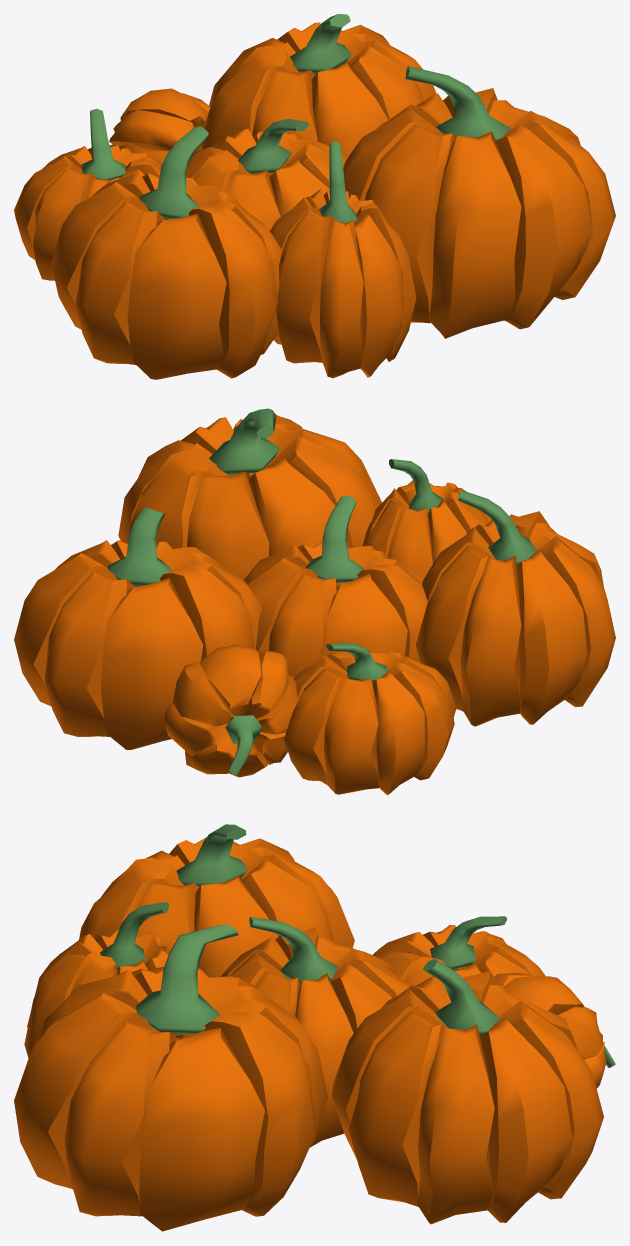
File: pum2.fbx
The picture shows the model from 3 angles, top to bottom: view 1: azimuth 30°, elevation 25°; view 2: azimuth 150°, elevation 25°; view 3: azimuth 270°, elevation 25°; orthographic projection. The views are drawn at different scales.
Parts seen in each view (by area): view 1: num07_Pumpkin, num06_Pumpkin, num02_Pumpkin, num05_Pumpkin, num01_Pumpkin, num03_Pumpkin, num04_Pumpkin; view 2: num05_Pumpkin, num06_Pumpkin, num07_Pumpkin, num03_Pumpkin, num01_Pumpkin, num04_Pumpkin, num02_Pumpkin; view 3: num07_Pumpkin, num05_Pumpkin, num06_Pumpkin, num01_Pumpkin, num02_Pumpkin, num03_Pumpkin, num04_Pumpkin.
Boxes of the visible parts, <box> form: num07_Pumpkin: <box>343,66,615,338</box>; num06_Pumpkin: <box>51,126,282,379</box>; num02_Pumpkin: <box>270,141,416,378</box>; num05_Pumpkin: <box>201,14,436,157</box>; num01_Pumpkin: <box>186,119,347,230</box>; num03_Pumpkin: <box>14,108,162,280</box>; num04_Pumpkin: <box>109,88,210,163</box>; num05_Pumpkin: <box>14,507,261,749</box>; num06_Pumpkin: <box>416,490,615,726</box>; num07_Pumpkin: <box>118,408,381,579</box>; num03_Pumpkin: <box>284,643,456,795</box>; num01_Pumpkin: <box>244,496,427,678</box>; num04_Pumpkin: <box>164,644,298,777</box>; num02_Pumpkin: <box>362,459,491,577</box>; num07_Pumpkin: <box>14,925,328,1231</box>; num05_Pumpkin: <box>332,959,603,1224</box>; num06_Pumpkin: <box>79,824,354,977</box>; num01_Pumpkin: <box>220,917,409,1147</box>; num02_Pumpkin: <box>24,902,171,1058</box>; num03_Pumpkin: <box>373,916,545,986</box>; num04_Pumpkin: <box>494,973,615,1088</box>.
Bounding box in the file's own units: 0.6742 × 0.2981 × 0.6347.
